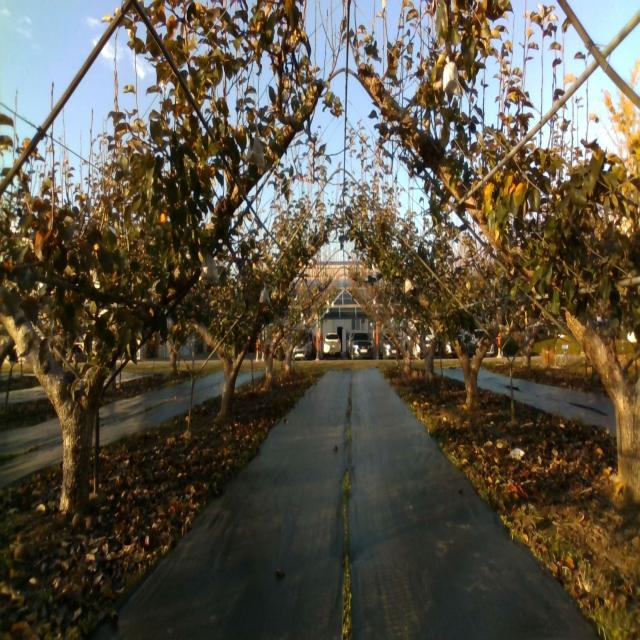pearbags: (442, 57, 461, 98), (247, 137, 266, 168), (199, 253, 219, 281), (259, 287, 271, 306)
